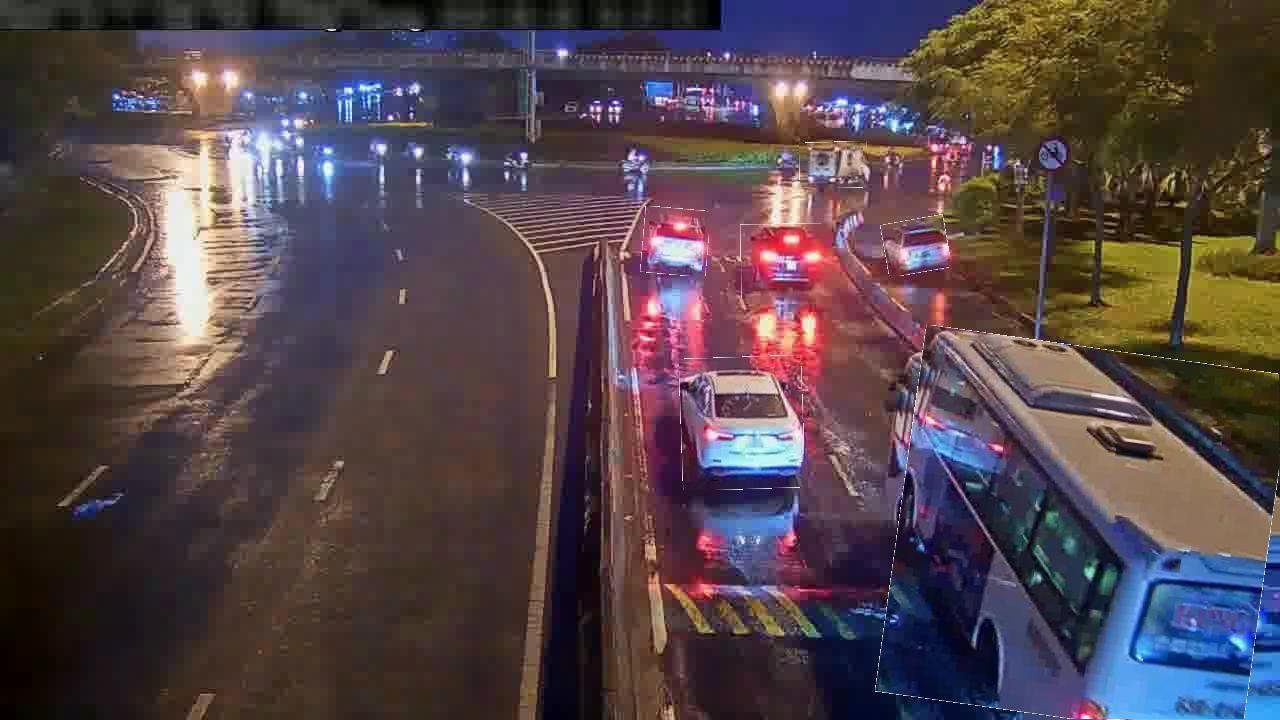14: (887, 337, 1279, 719)
8: (800, 142, 868, 189)
container: (680, 356, 804, 490), (741, 224, 822, 299), (642, 208, 709, 276), (882, 217, 949, 275)
